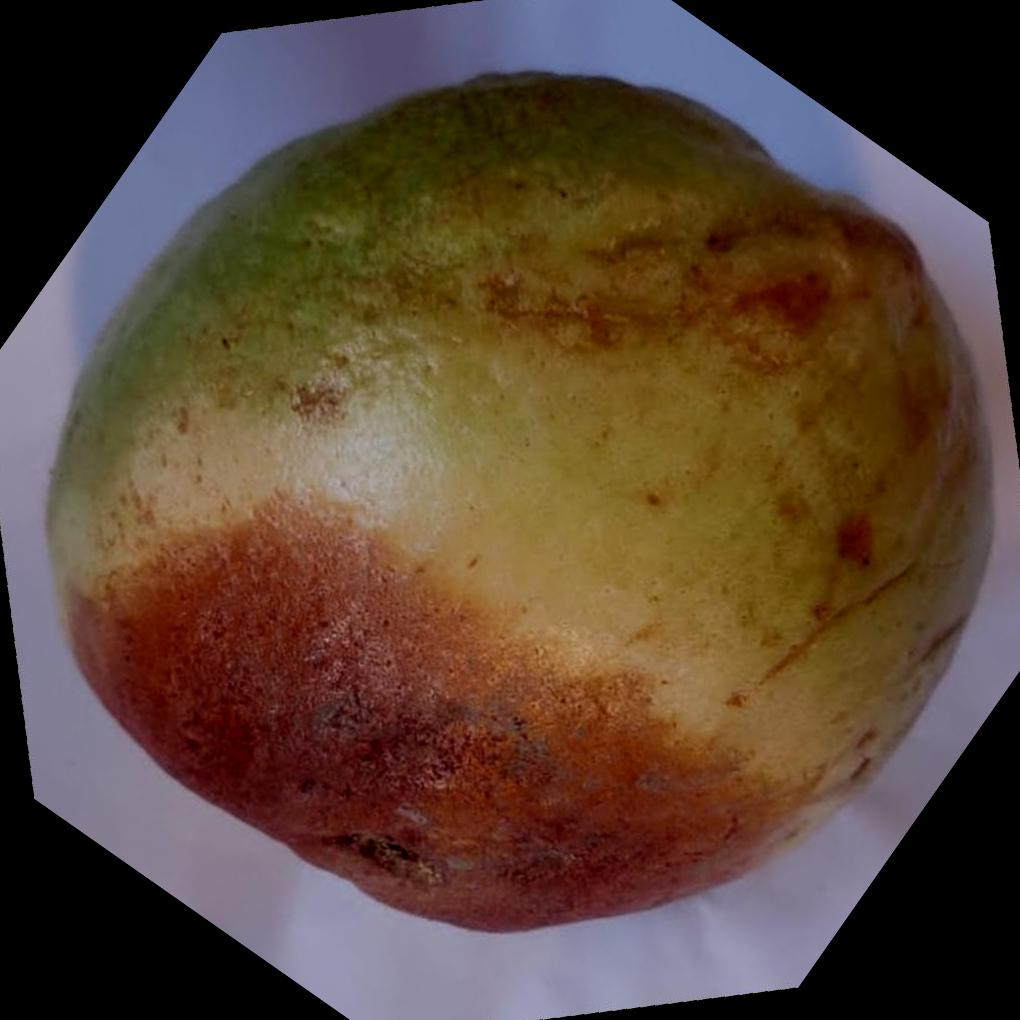FreshOrange: (38, 70, 993, 939)
